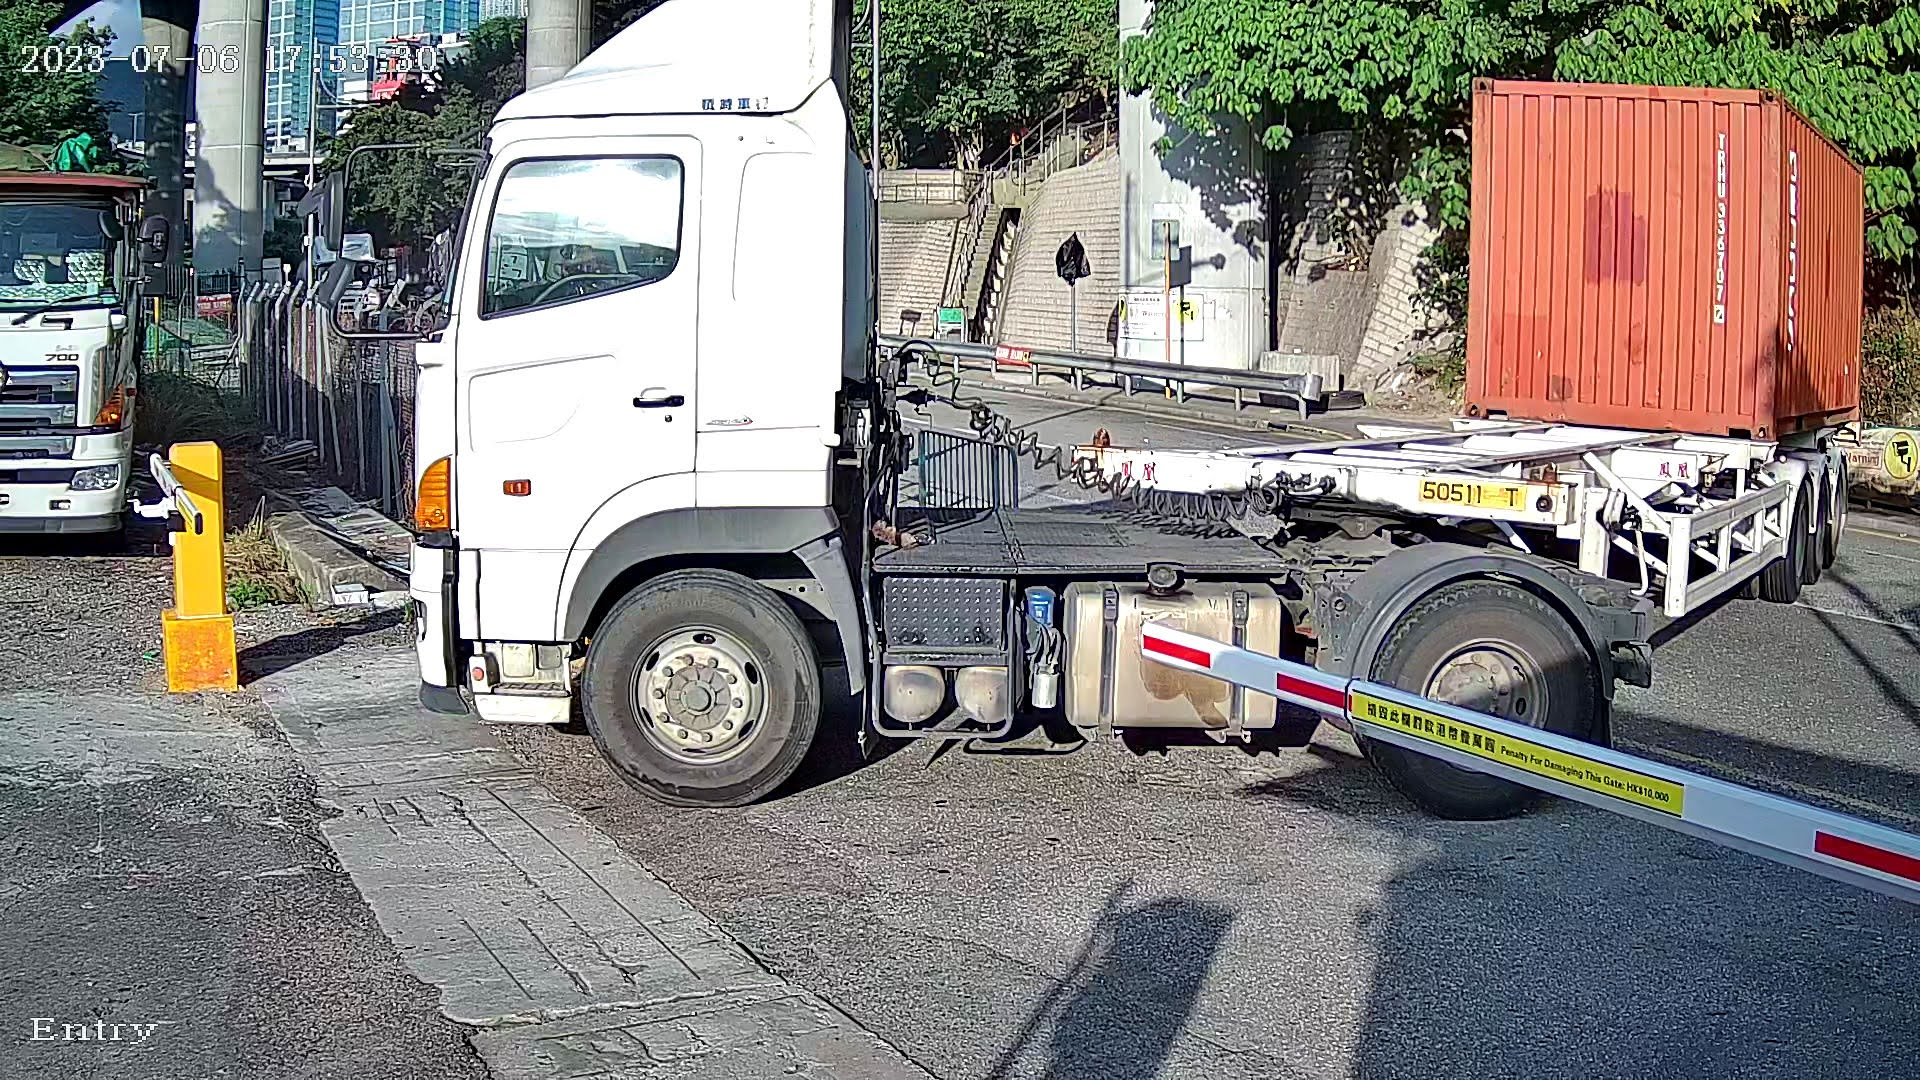tractor: (377, 1, 1677, 820)
